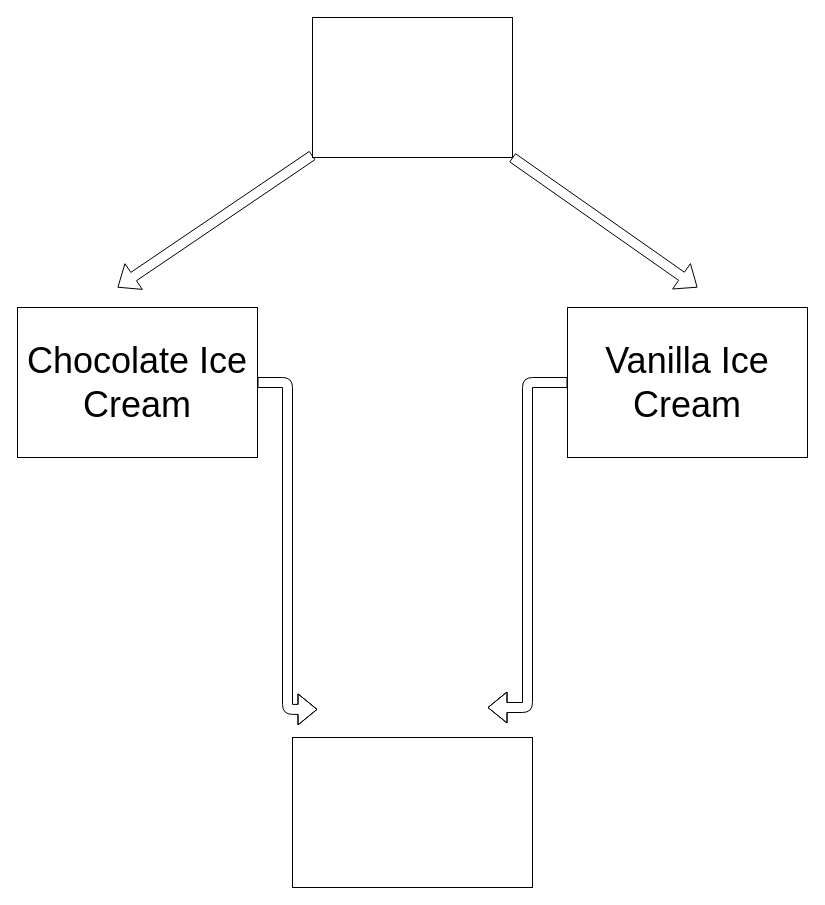
Some shapes in this 825 by 905 pixel diagram are drawn without their labels. Here are the shapes that lost their labels. From the top down, the centre of each, then its label:
At point 412,87: "Ice Cream Object".
At point 412,812: "Ice Cream Shop".
